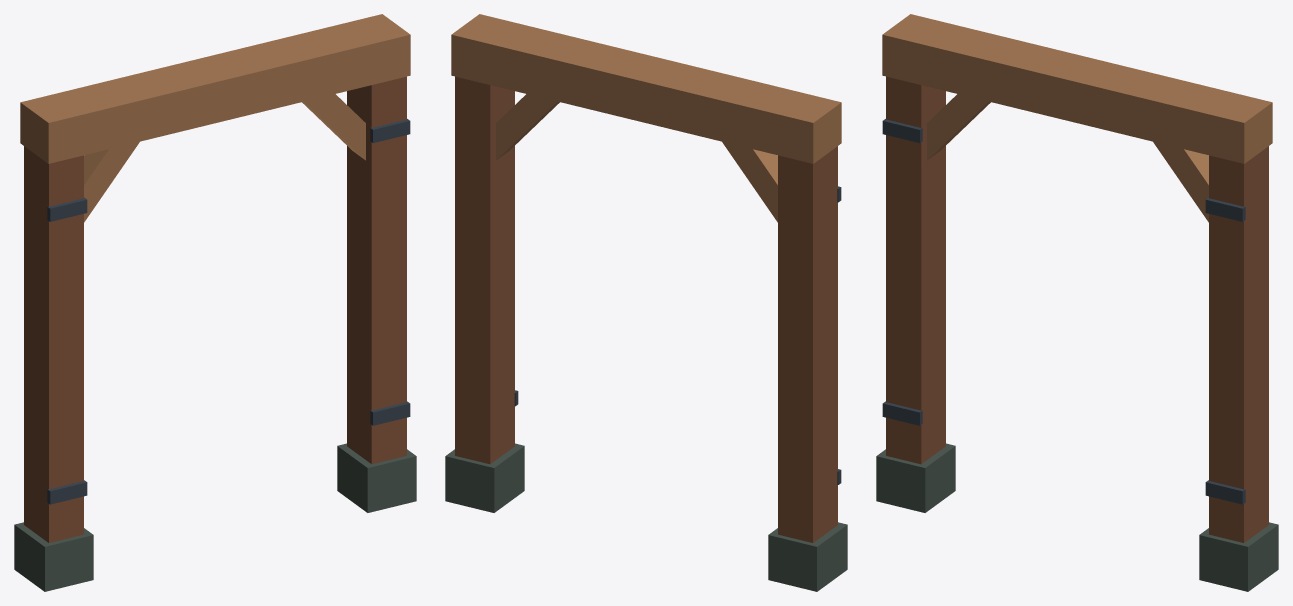
File: mine_support.glb
3 views of the same model, side by side, from view 1: azimuth 30°, elevation 25°; view 2: azimuth 150°, elevation 25°; view 3: azimuth 330°, elevation 25° (orthographic).
Visible parts, largest first — view 1: geometry; view 2: geometry; view 3: geometry.
Boxes of the visible parts, box(x1,y1,x2,y2) form: geometry: box(14, 14, 416, 591); geometry: box(445, 14, 847, 591); geometry: box(876, 14, 1278, 591).
Size of the model in its own units: 1.9 by 2.28 by 0.27.
